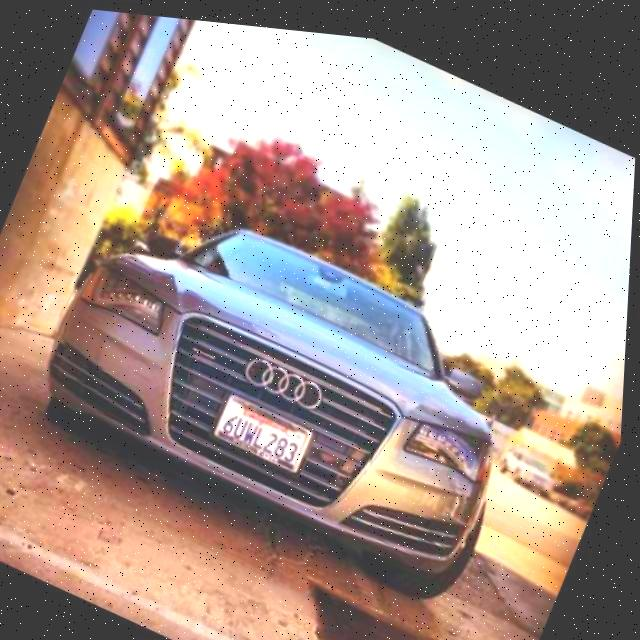license_plate: (210, 382, 324, 472)
